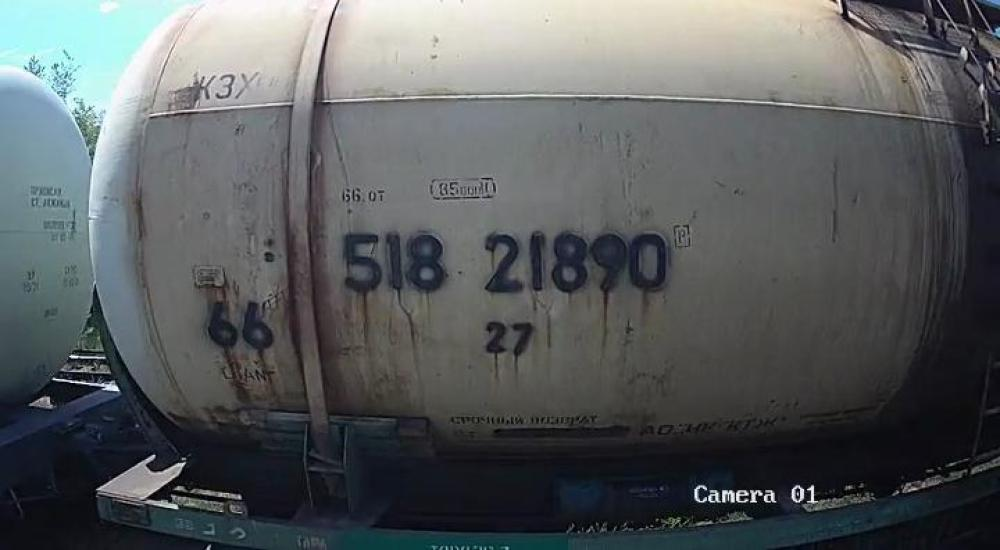Wagon-number: (338, 222, 674, 300)
